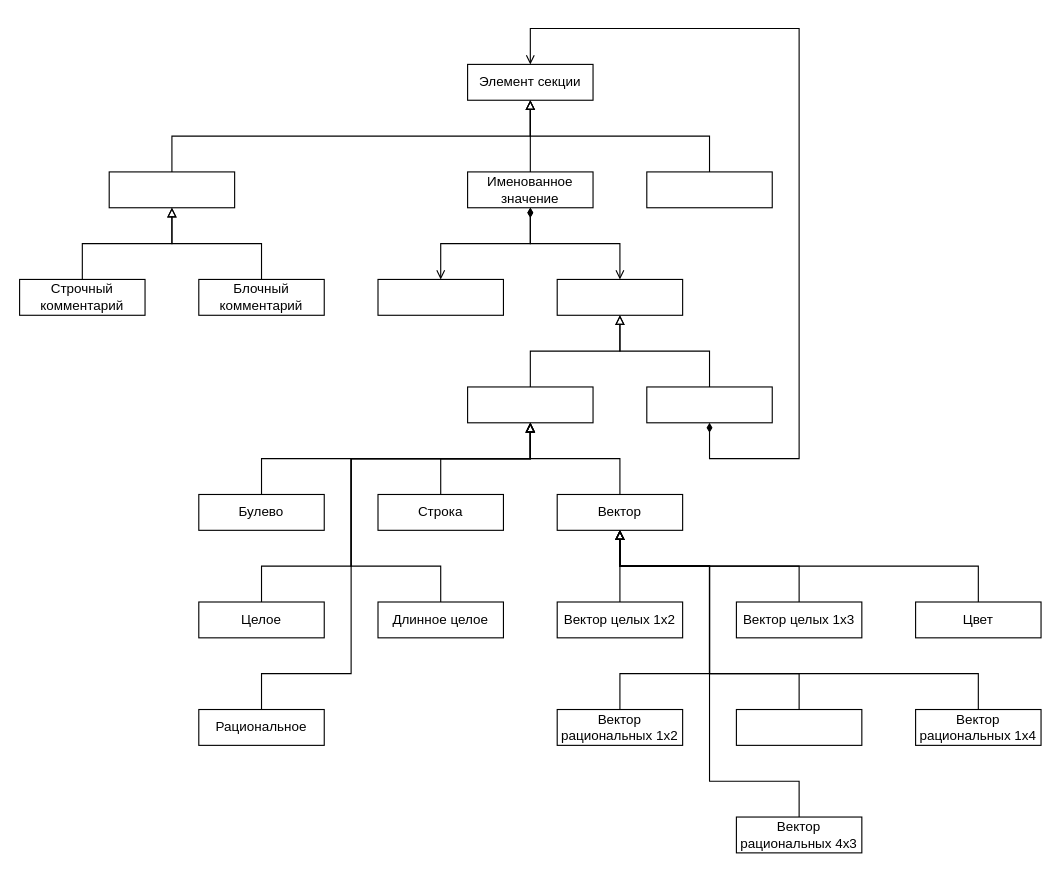
The diagram is 1061 pixels wide and 872 high, and some of its shapes have lost their labels. Each missing label, with the centre of its shape:
"Вектор рациональных 1x3" belongs at (798,726).
"Значение" belongs at (619,296).
"Имя" belongs at (440,296).
"Инструкция включения" belongs at (709,189).
"Комментарий" belongs at (171,189).
"Параметр" belongs at (529,404).
"Секция" belongs at (709,404).
